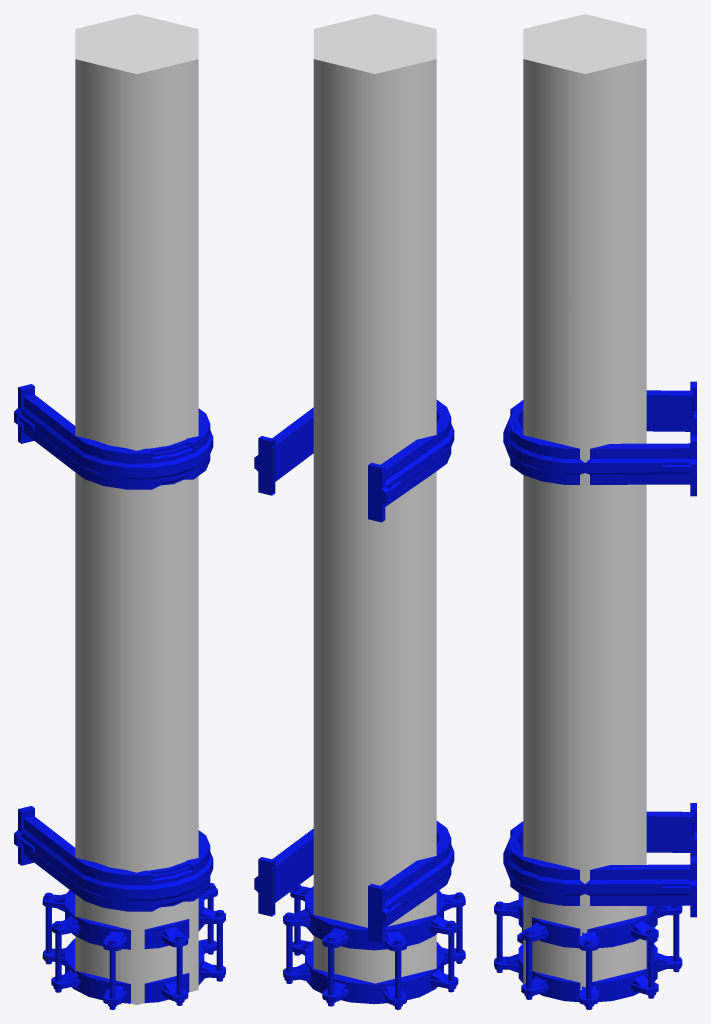
Rendered from SFM_Elevator_Pipe_stright.FBX.
The picture shows the model from 3 angles, left to right: view 1: azimuth 30°, elevation 25°; view 2: azimuth 150°, elevation 25°; view 3: azimuth 270°, elevation 25°; orthographic projection.
Visible parts, largest first — view 1: SFM_Elevator_Pipe_stright_Colider, SFM_Elevator_Pipe_stright_LOD0; view 2: SFM_Elevator_Pipe_stright_Colider, SFM_Elevator_Pipe_stright_LOD0; view 3: SFM_Elevator_Pipe_stright_Colider, SFM_Elevator_Pipe_stright_LOD0.
Boxes of the visible parts, x1,y1,x2,y2 form: SFM_Elevator_Pipe_stright_Colider: [75, 14, 198, 1004]; SFM_Elevator_Pipe_stright_LOD0: [14, 384, 225, 1009]; SFM_Elevator_Pipe_stright_Colider: [313, 14, 436, 983]; SFM_Elevator_Pipe_stright_LOD0: [254, 400, 465, 1009]; SFM_Elevator_Pipe_stright_Colider: [523, 14, 646, 990]; SFM_Elevator_Pipe_stright_LOD0: [494, 381, 696, 1009].
Size of what is drawn, in the model's own units: 36.72 by 200 by 39.59.
